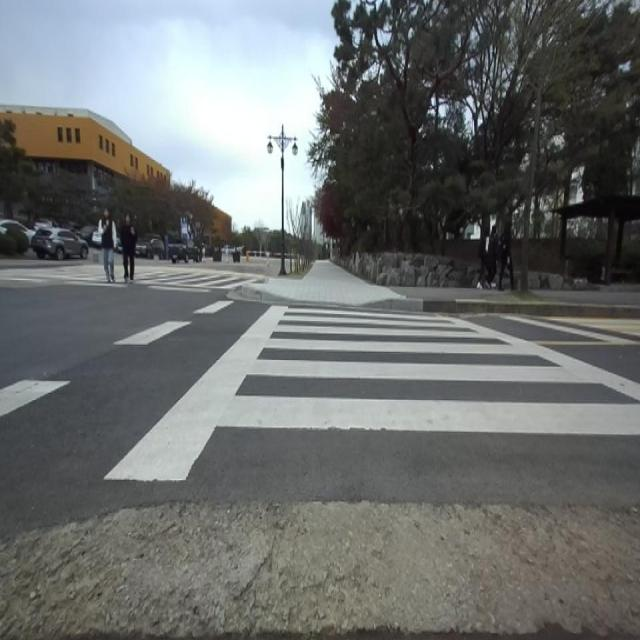sidewalk: (391, 287, 640, 317), (242, 260, 407, 305)
